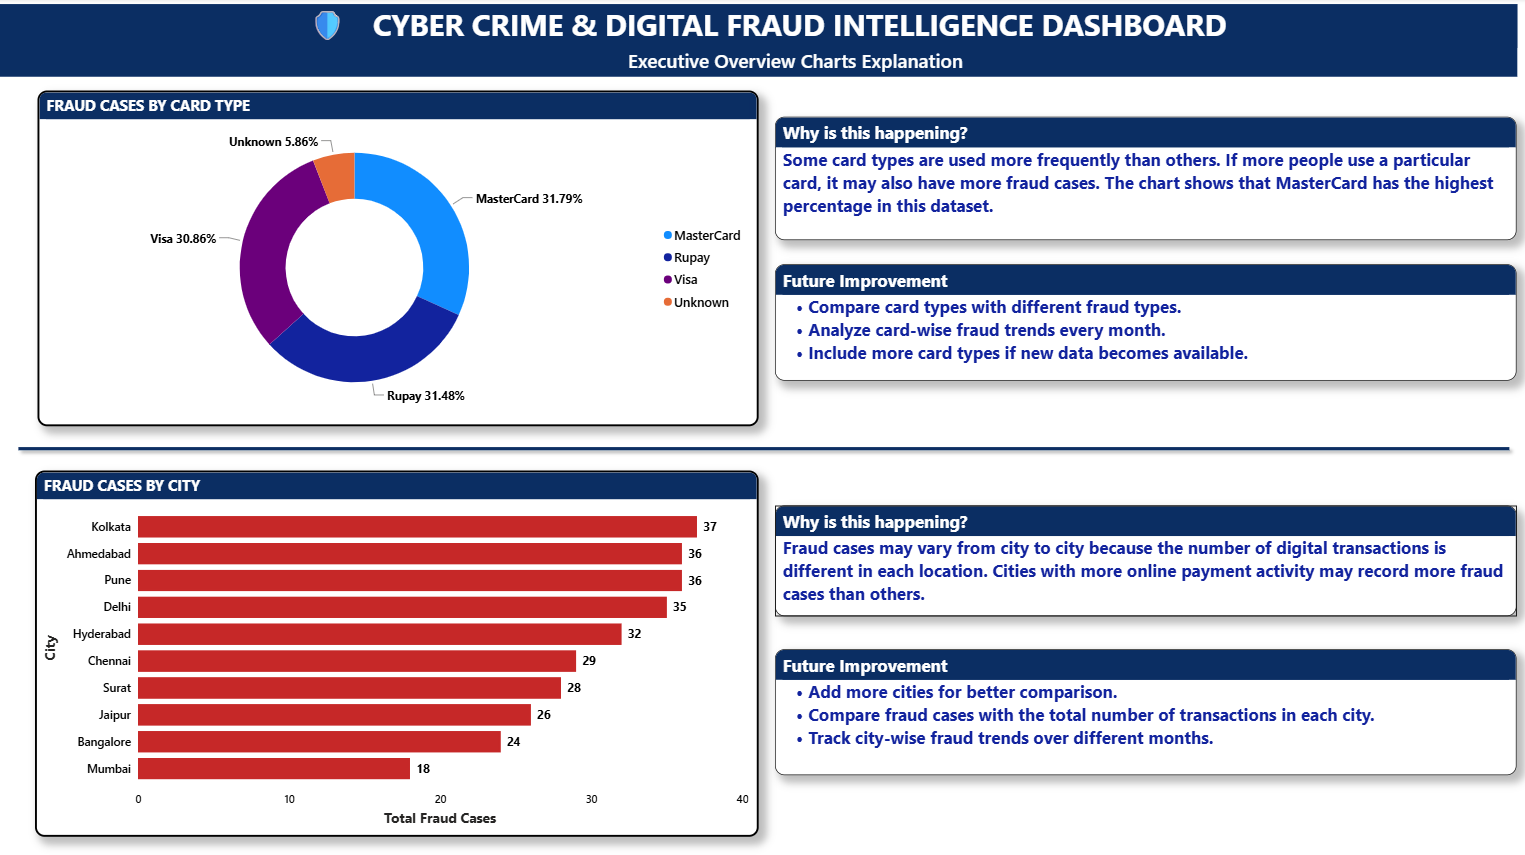

What the dashboard file says about the page in this screenshot:
{"tool":"powerbi","page":{"name":"Charts Explanation 2","canvas":[1920,1080],"ordinal":4},"visuals":[{"type":"shape","title":"   🛡️    CYBER CRIME & DIGITAL FRAUD INTELLIGENCE DASHBOARD","box":[0,7.3,1909.1,90.9],"z":0},{"type":"shape","box":[13.8,539.3,1893.6,55.1],"z":1000},{"type":"textbox","title":"Why is this happening?","box":[975,150,933.1,155.2],"z":2000},{"type":"textbox","title":"Future Improvement","box":[975,334.9,933.1,146.5],"z":3000},{"type":"textbox","title":"Why is this happening?","box":[975,638.4,933.1,139.5],"z":4000},{"type":"textbox","title":"Future Improvement","box":[975,819.8,933.1,158.7],"z":5000},{"type":"donutChart","title":"FRAUD CASES BY CARD TYPE","fields":{"Category":["Fact_Fraud.Card Type"],"Y":["Fact_Fraud.Total Fraud Cases"]},"box":[47.1,116.9,907,422.1],"z":6000},{"type":"clusteredBarChart","title":"FRAUD CASES BY CITY","fields":{"Category":["Dim_City.City"],"Y":["Fact_Fraud.Total Fraud Cases"]},"box":[43.6,594.8,910.5,460.5],"z":7000}]}

Visuals, with their boxes in screenshot pixels (x1, y1, x2, y2), scaled from the page's 1920x1080 canvas onto the 1525x855 screenshot:
"   🛡️    CYBER CRIME & DIGITAL FRAUD INTELLIGENCE DASHBOARD" shape: 0 6 1516 78
shape: 11 427 1515 471
"Why is this happening?" textbox: 774 119 1516 242
"Future Improvement" textbox: 774 265 1516 381
"Why is this happening?" textbox: 774 505 1516 616
"Future Improvement" textbox: 774 649 1516 775
"FRAUD CASES BY CARD TYPE" donutChart: 37 93 758 427
"FRAUD CASES BY CITY" clusteredBarChart: 35 471 758 835
